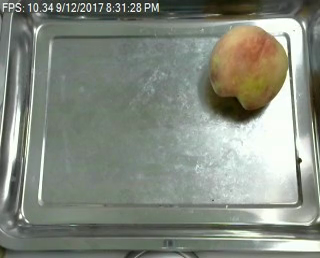Peach: (207, 23, 287, 112)
